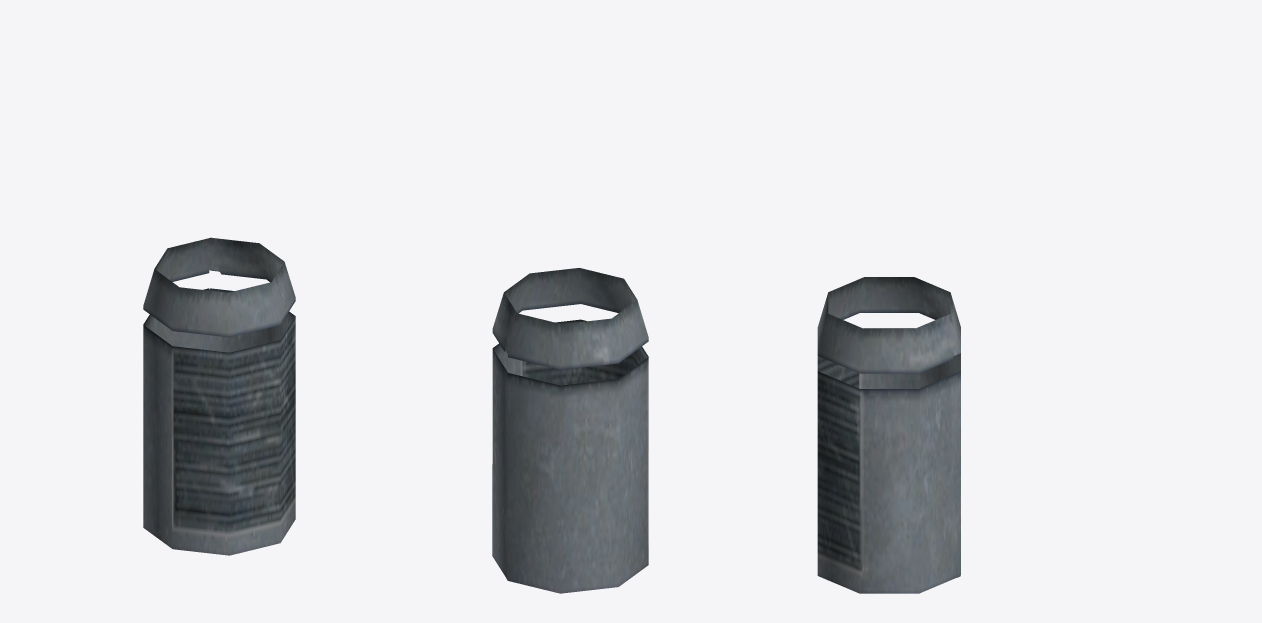
The model's file is eqp_tool_retrofit_kit_l0.fbx.
3 views of the same model, side by side, from view 1: azimuth 30°, elevation 25°; view 2: azimuth 150°, elevation 25°; view 3: azimuth 270°, elevation 25° (orthographic). The views are drawn at different scales.
Visible parts, largest first — view 1: mesh_node; view 2: mesh_node; view 3: mesh_node.
Part boxes in pixels (x1=…): mesh_node: x1=143, y1=237, x2=295, y2=555; mesh_node: x1=492, y1=268, x2=648, y2=593; mesh_node: x1=817, y1=277, x2=960, y2=593.
Bounding box in the file's own units: 0.1555 × 0.4121 × 0.3721.
Materials: 1 (1 with a texture image).
